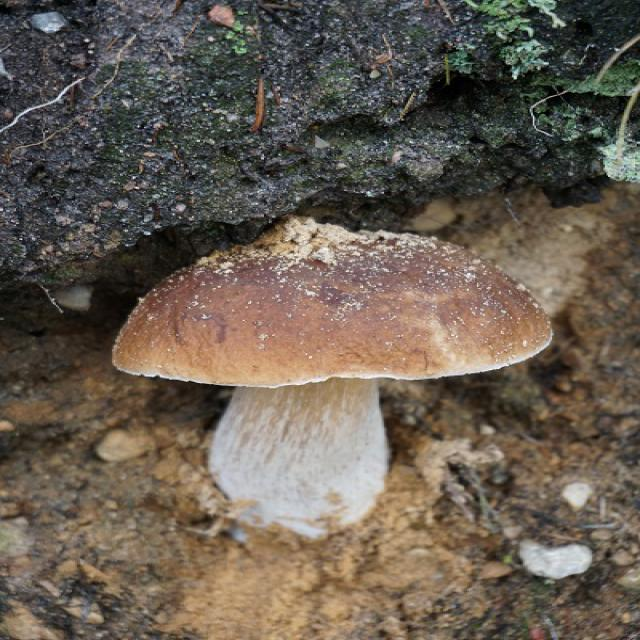Boletus: (109, 228, 552, 523)
